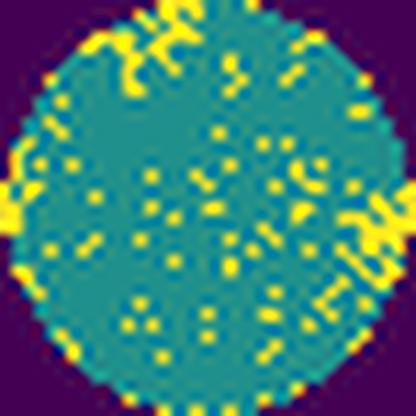Edge-Loc: (79, 0, 208, 101), (326, 177, 415, 295), (0, 132, 46, 236)
